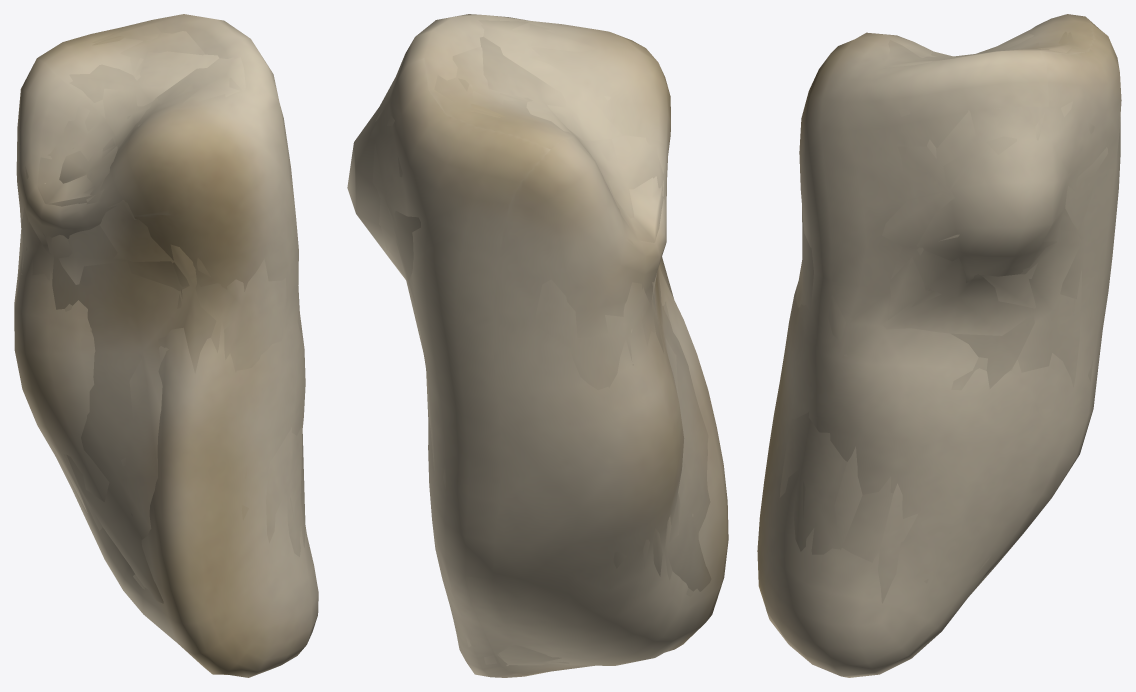
File: L tarsale quartum et quintum.fbx
3 views of the same model, side by side, from view 1: azimuth 30°, elevation 25°; view 2: azimuth 150°, elevation 25°; view 3: azimuth 270°, elevation 25° (orthographic). The views are drawn at different scales.
Visible parts, largest first — view 1: L tarsale quartum et quintum high, L tarsale quartum et quintum low, L tarsale quartum et quintum; view 2: L tarsale quartum et quintum high, L tarsale quartum et quintum, L tarsale quartum et quintum low; view 3: L tarsale quartum et quintum high, L tarsale quartum et quintum, L tarsale quartum et quintum low.
Boxes of the visible parts, x1,y1,x2,y2 form: L tarsale quartum et quintum high: (14,14,318,677); L tarsale quartum et quintum low: (26,33,305,603); L tarsale quartum et quintum: (17,21,305,628); L tarsale quartum et quintum high: (347,14,728,677); L tarsale quartum et quintum: (372,20,693,674); L tarsale quartum et quintum low: (375,36,711,665); L tarsale quartum et quintum high: (757,14,1121,677); L tarsale quartum et quintum: (776,32,1094,595); L tarsale quartum et quintum low: (803,26,1107,603).
Size of the model in its own units: 3.29 by 7.13 by 3.77.
